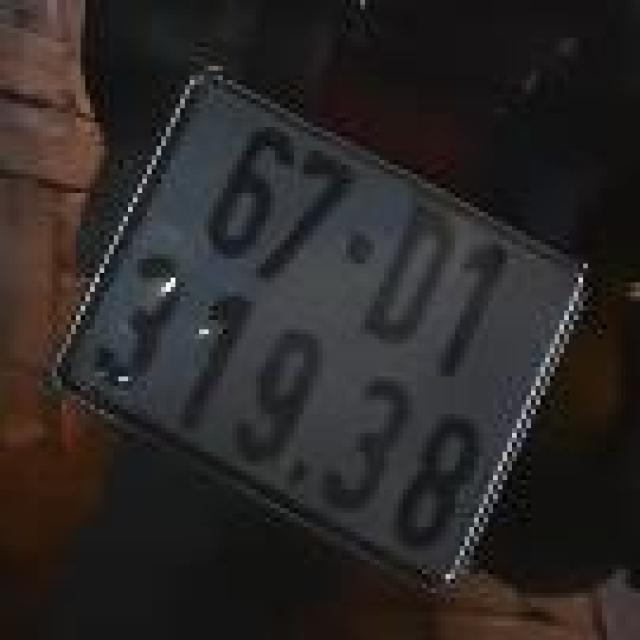1: (144, 279, 272, 442), (414, 230, 531, 395)
3: (294, 364, 438, 530), (79, 241, 206, 405)
6: (192, 118, 307, 275)
7: (236, 132, 380, 297)
8: (380, 400, 505, 565)
9: (210, 313, 354, 483)
D: (348, 193, 470, 366)
